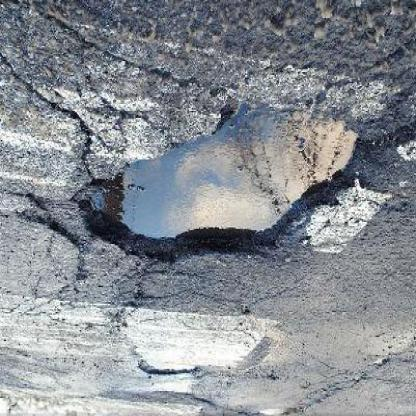pothole: (76, 101, 365, 269), (136, 363, 200, 382)
